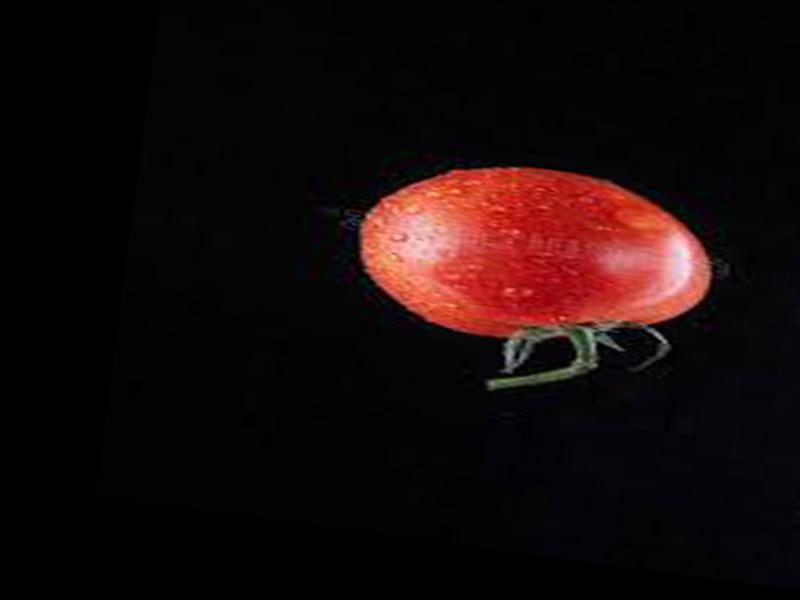Tomato: (347, 145, 721, 364)
